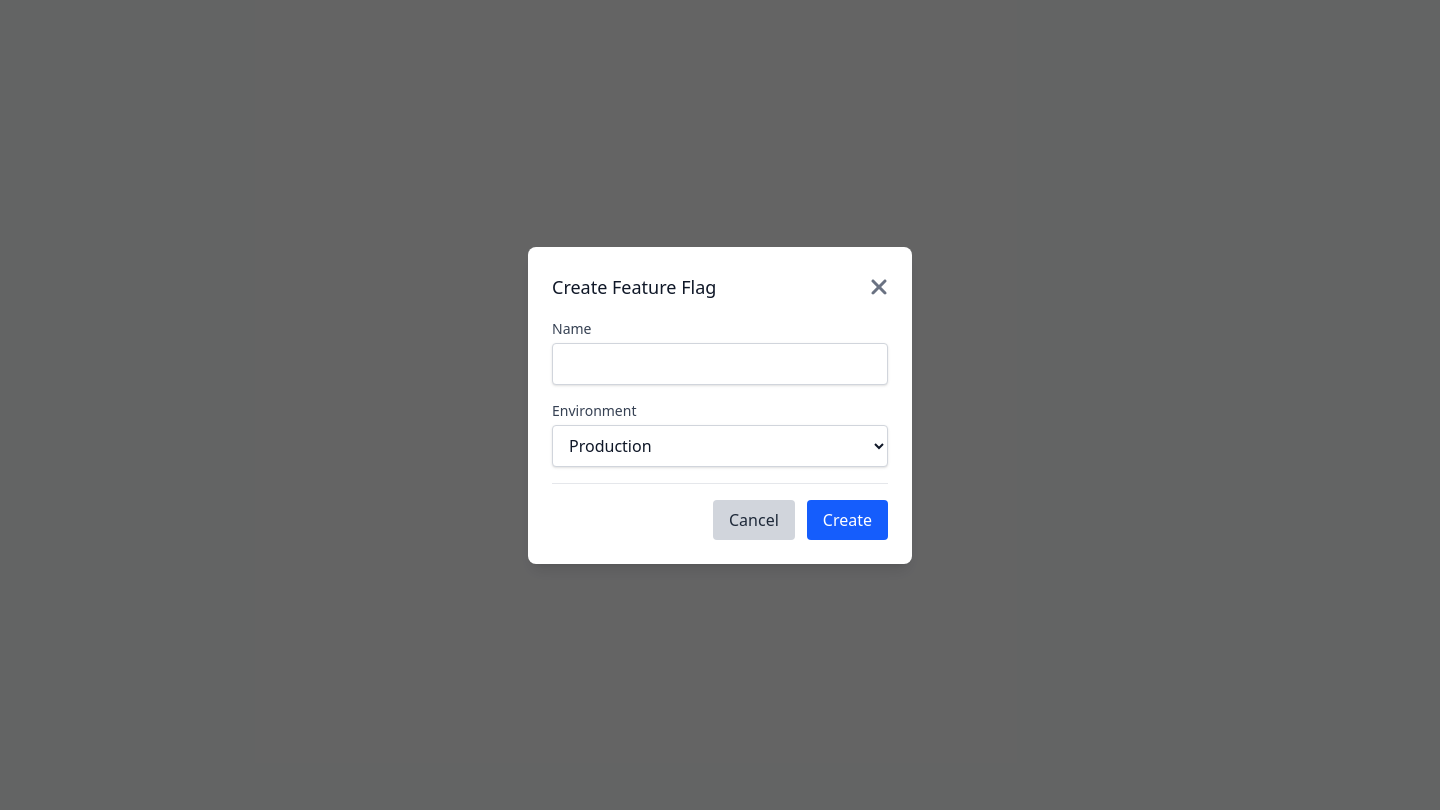
FlagForm component › shows validation error when name is empty
// Submit with no name
Click the button "Create": (847, 520) [807,500,888,540]
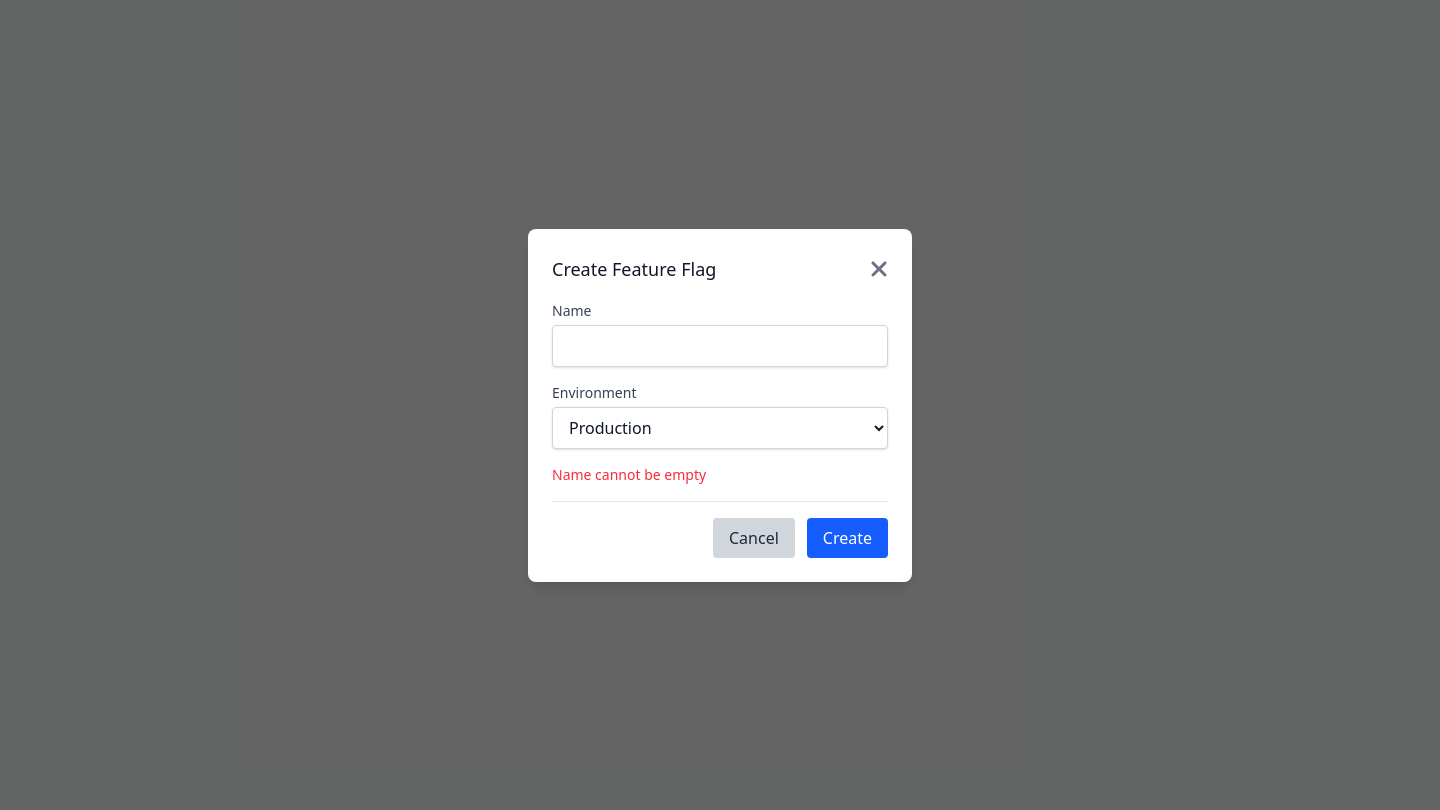
Expected: the text "Name cannot be empty" is shown, [552,464,706,484]
